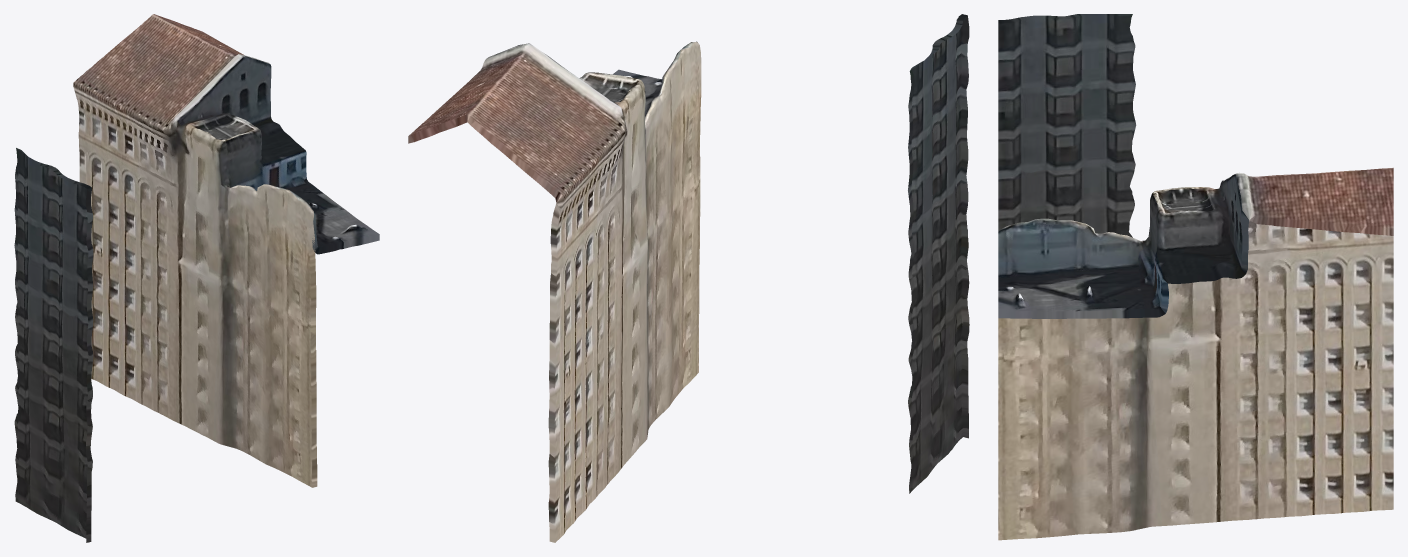
The model's file is z20-167744-405247-h1-yup-uvflip-v3-world.glb.
3 renders of one model, left to right at view 1: azimuth 30°, elevation 25°; view 2: azimuth 150°, elevation 25°; view 3: azimuth 270°, elevation 25°, orthographic. The views are drawn at different scales.
Size of the model in its own units: 30.16 by 33.6 by 30.32.
Materials: 1 (1 with a texture image).
